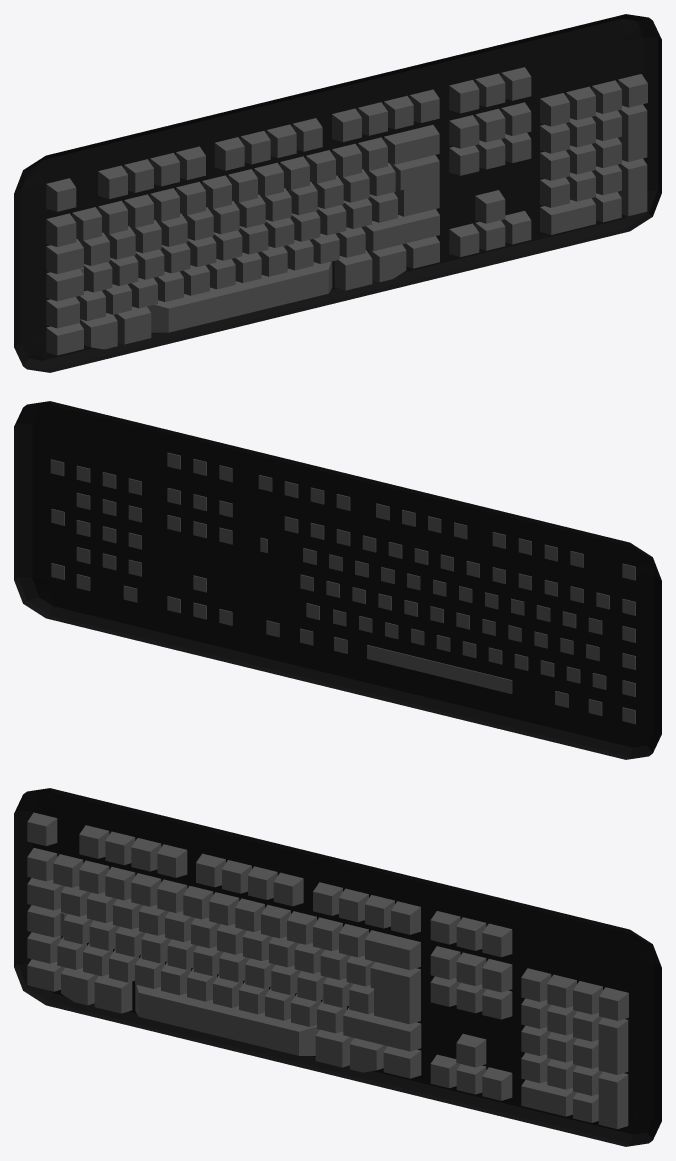
The picture shows the model from 3 angles, top to bottom: view 1: azimuth 30°, elevation 25°; view 2: azimuth 150°, elevation 25°; view 3: azimuth 330°, elevation 25°; orthographic projection.
Parts seen in each view (by area): view 1: Alusta_Material.001_0, Numerot ( 1 - 9 + 0 )_Material.002_0, Cube.005_Material.002_0, Cube.002_Material.002_0, Cube.008_Material.002_0, SPACE_Material.002_0, ( F5 - f8 )_Material.002_0, ( F9 - f12 )_Material.002_0, ( NL ) ( / ) ( * ) ( - )_Material.002_0, ( F1 - F4 )_Material.002_0, ( INS ) ( HOME ) ( PU )_Material.002_0, ( PS ) ( SL ) ( PB )_Material.002_0 (+23 smaller); view 2: Alusta_Material.001_0, Numerot ( 1 - 9 + 0 )_Material.002_0, Cube.002_Material.002_0, Cube.005_Material.002_0, Cube.008_Material.002_0, SPACE_Material.002_0, ( F9 - f12 )_Material.002_0, ( NL ) ( / ) ( * ) ( - )_Material.002_0, ( F5 - f8 )_Material.002_0, ( F1 - F4 )_Material.002_0, ( 4 ) ( 5 ) ( 6 )_Material.002_0, ( 7 ) ( 8 ) ( 9 )_Material.002_0 (+5 smaller); view 3: Alusta_Material.001_0, Numerot ( 1 - 9 + 0 )_Material.002_0, Cube.005_Material.002_0, Cube.002_Material.002_0, Cube.008_Material.002_0, SPACE_Material.002_0, ( F1 - F4 )_Material.002_0, ( F5 - f8 )_Material.002_0, ( NL ) ( / ) ( * ) ( - )_Material.002_0, ( F9 - f12 )_Material.002_0, ENTER OIKEA_Material.002_0, ( INS ) ( HOME ) ( PU )_Material.002_0 (+23 smaller).
Part boxes in pixels (x1=…): Alusta_Material.001_0: x1=14, y1=14, x2=661, y2=372; Numerot ( 1 - 9 + 0 )_Material.002_0: x1=46, y1=137, x2=387, y2=246; Cube.005_Material.002_0: x1=84, y1=192, x2=397, y2=292; Cube.002_Material.002_0: x1=80, y1=163, x2=395, y2=265; Cube.008_Material.002_0: x1=76, y1=227, x2=365, y2=320; SPACE_Material.002_0: x1=147, y1=261, x2=332, y2=332; ( F5 - f8 )_Material.002_0: x1=214, y1=118, x2=322, y2=170; ( F9 - f12 )_Material.002_0: x1=332, y1=89, x2=439, y2=141; ( NL ) ( / ) ( * ) ( - )_Material.002_0: x1=540, y1=74, x2=647, y2=126; ( F1 - F4 )_Material.002_0: x1=98, y1=146, x2=205, y2=199; ( INS ) ( HOME ) ( PU )_Material.002_0: x1=449, y1=102, x2=531, y2=148; ( PS ) ( SL ) ( PB )_Material.002_0: x1=449, y1=67, x2=531, y2=113; Alusta_Material.001_0: x1=14, y1=401, x2=661, y2=759; Numerot ( 1 - 9 + 0 )_Material.002_0: x1=310, y1=522, x2=635, y2=615; Cube.002_Material.002_0: x1=303, y1=548, x2=602, y2=634; Cube.005_Material.002_0: x1=300, y1=574, x2=599, y2=661; Cube.008_Material.002_0: x1=333, y1=609, x2=606, y2=689; SPACE_Material.002_0: x1=367, y1=645, x2=512, y2=693; ( F9 - f12 )_Material.002_0: x1=258, y1=475, x2=350, y2=510; ( NL ) ( / ) ( * ) ( - )_Material.002_0: x1=50, y1=459, x2=141, y2=495; ( F5 - f8 )_Material.002_0: x1=376, y1=503, x2=467, y2=539; ( F1 - F4 )_Material.002_0: x1=492, y1=532, x2=583, y2=567; ( 4 ) ( 5 ) ( 6 )_Material.002_0: x1=76, y1=520, x2=141, y2=549; ( 7 ) ( 8 ) ( 9 )_Material.002_0: x1=76, y1=492, x2=141, y2=522; Alusta_Material.001_0: x1=14, y1=788, x2=661, y2=1146; Numerot ( 1 - 9 + 0 )_Material.002_0: x1=27, y1=848, x2=368, y2=957; Cube.005_Material.002_0: x1=63, y1=914, x2=373, y2=1014; Cube.002_Material.002_0: x1=61, y1=886, x2=375, y2=986; Cube.008_Material.002_0: x1=57, y1=936, x2=346, y2=1033; SPACE_Material.002_0: x1=135, y1=984, x2=319, y2=1055; ( F1 - F4 )_Material.002_0: x1=79, y1=825, x2=187, y2=877; ( F5 - f8 )_Material.002_0: x1=196, y1=853, x2=303, y2=906; ( NL ) ( / ) ( * ) ( - )_Material.002_0: x1=521, y1=968, x2=628, y2=1020; ( F9 - f12 )_Material.002_0: x1=313, y1=882, x2=420, y2=934; ENTER OIKEA_Material.002_0: x1=370, y1=962, x2=420, y2=1024; ( INS ) ( HOME ) ( PU )_Material.002_0: x1=430, y1=946, x2=512, y2=992.
Bounding box in the file's own units: 1.27 × 0.4033 × 0.0689.
Materials: 2 (2 with a texture image).
